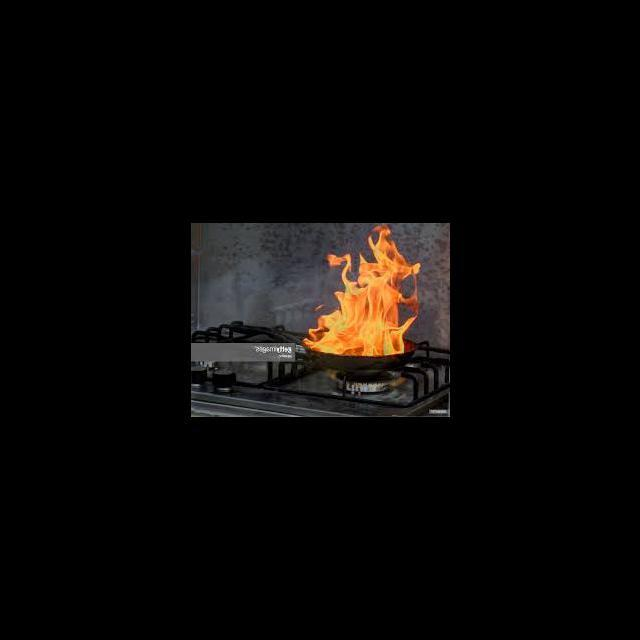Fire: (302, 223, 420, 356)
